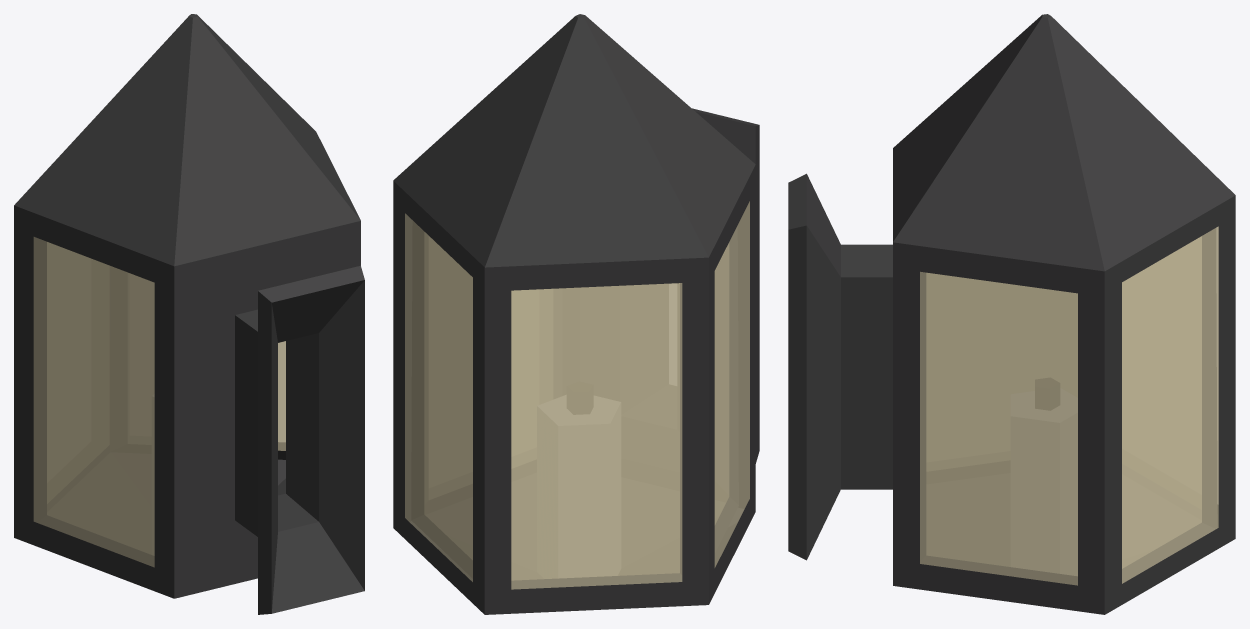
Rendered from NewLantern.fbx.
3 views of the same model, side by side, from view 1: azimuth 30°, elevation 25°; view 2: azimuth 150°, elevation 25°; view 3: azimuth 270°, elevation 25° (orthographic). The views are drawn at different scales.
Visible parts, largest first — view 1: Cylinder; view 2: Cylinder; view 3: Cylinder.
Part boxes in pixels (x1,y1,x2,y2): Cylinder: (14, 14, 364, 614); Cylinder: (393, 14, 759, 614); Cylinder: (788, 14, 1235, 614).
Size of the model in its own units: 190 by 340 by 236.
